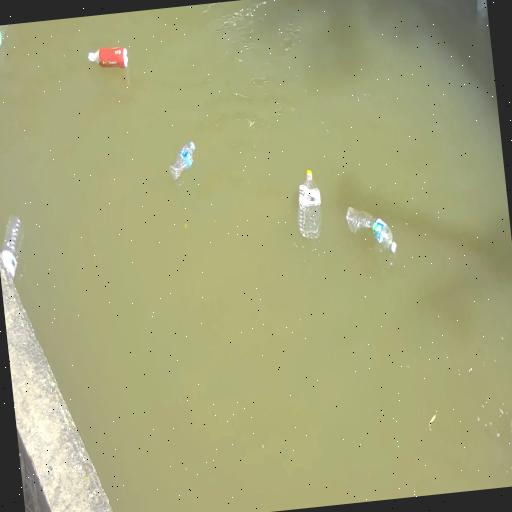plastic: (345, 207, 396, 252), (297, 170, 320, 239), (0, 216, 21, 278), (167, 140, 198, 180), (88, 47, 127, 68), (0, 25, 6, 46)
